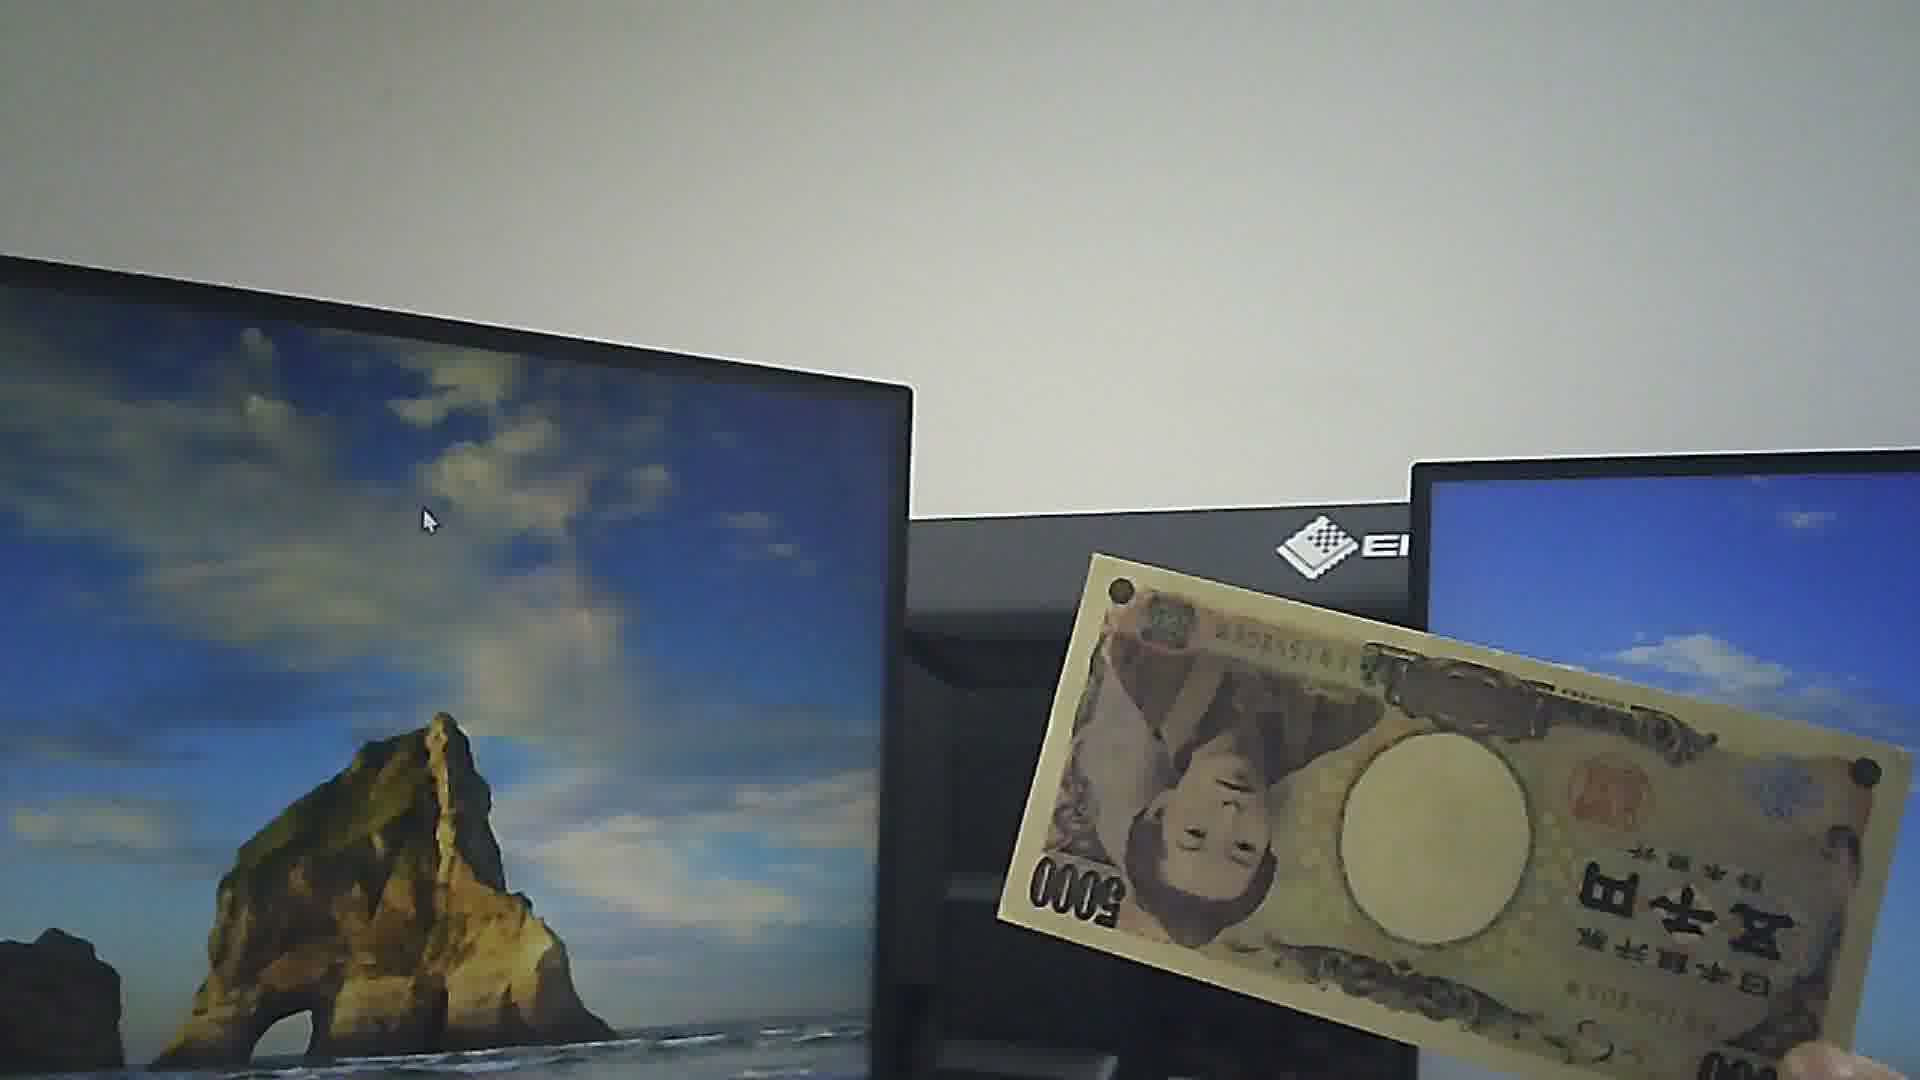5,000 Yen: (1000, 551, 1834, 1079)
